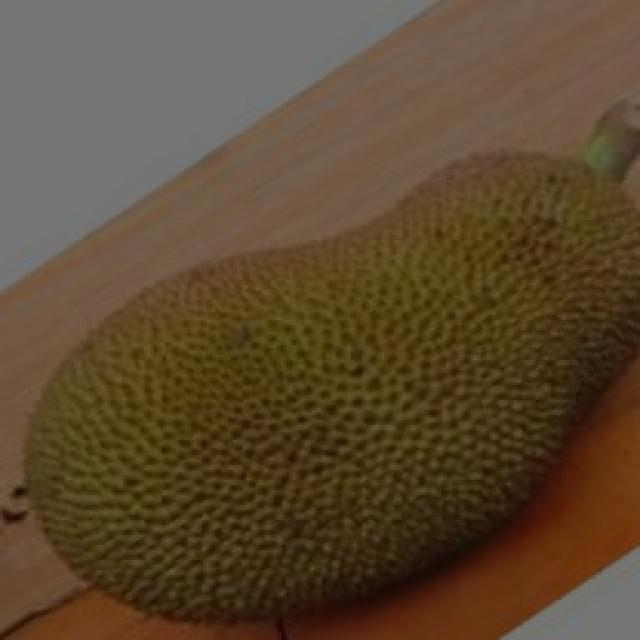Fruit: (0, 232, 378, 639), (274, 230, 640, 635)
